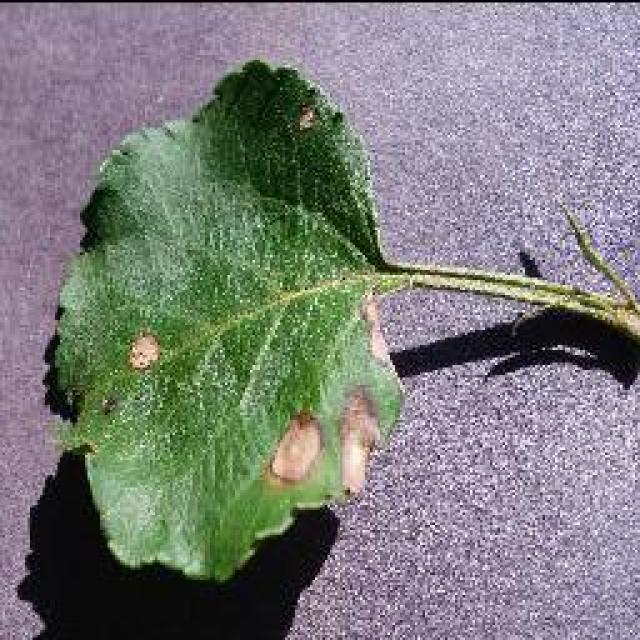Black_rot: (42, 57, 638, 585)
